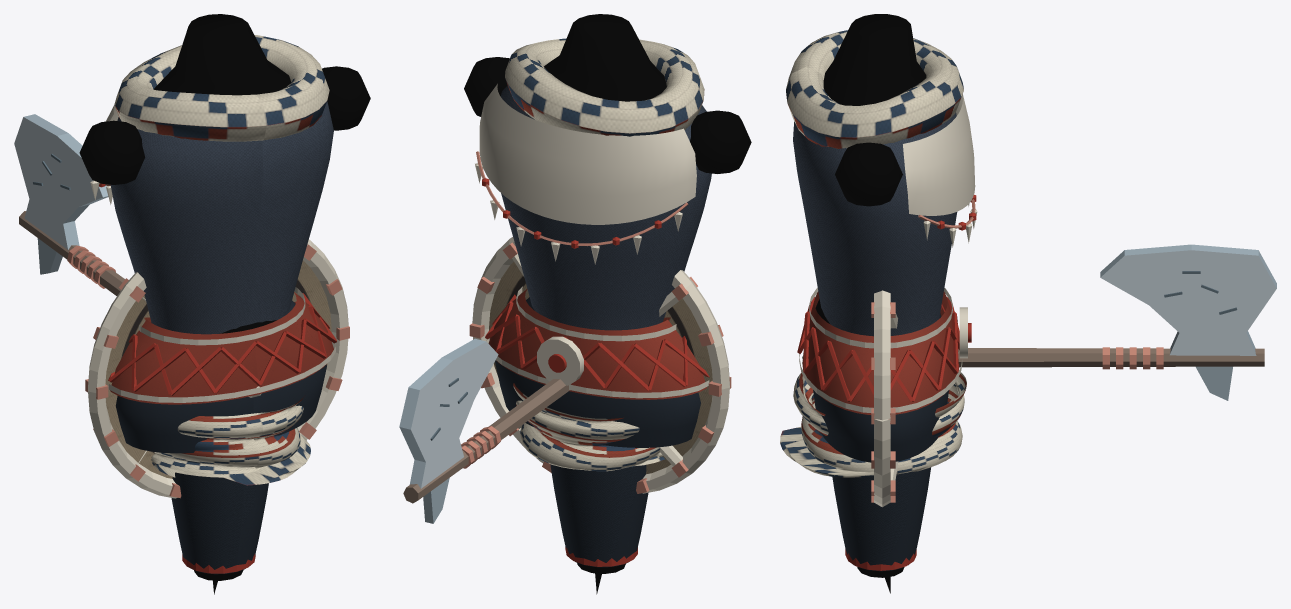
Rendered from shade_rimefall.glb.
3 renders of one model, left to right at view 1: azimuth 30°, elevation 25°; view 2: azimuth 150°, elevation 25°; view 3: azimuth 270°, elevation 25°, orthographic.
Parts seen in each view (by area): view 1: G_chest, G_hips, S_chest, Shield, Weapon, G_head, G_hip_l; view 2: G_chest, G_hips, S_chest, Shield, Weapon, G_hip_l, G_head; view 3: G_chest, Weapon, G_hips, S_chest, G_hip_l, G_head, Shield.
Part boxes in pixels (bbox=[...]): G_chest: bbox=[90, 35, 333, 334]; G_hips: bbox=[108, 287, 336, 453]; S_chest: bbox=[79, 14, 370, 184]; Shield: bbox=[85, 239, 349, 498]; Weapon: bbox=[14, 114, 261, 397]; G_head: bbox=[151, 396, 310, 485]; G_hip_l: bbox=[171, 472, 268, 574]; G_chest: bbox=[475, 38, 711, 330]; G_hips: bbox=[485, 286, 709, 447]; S_chest: bbox=[464, 14, 751, 173]; Shield: bbox=[469, 237, 731, 493]; Weapon: bbox=[399, 338, 570, 523]; G_hip_l: bbox=[550, 464, 648, 567]; G_head: bbox=[513, 383, 665, 471]; G_chest: bbox=[786, 30, 977, 336]; Weapon: bbox=[802, 244, 1276, 400]; G_hips: bbox=[797, 288, 971, 462]; S_chest: bbox=[823, 14, 926, 206]; G_hip_l: bbox=[832, 467, 930, 571]; G_head: bbox=[780, 372, 966, 477]; Shield: bbox=[871, 290, 898, 507].
Size of the model in its own units: 0.532 by 1.03 by 0.8158.
Materials: 15 (6 with a texture image).
